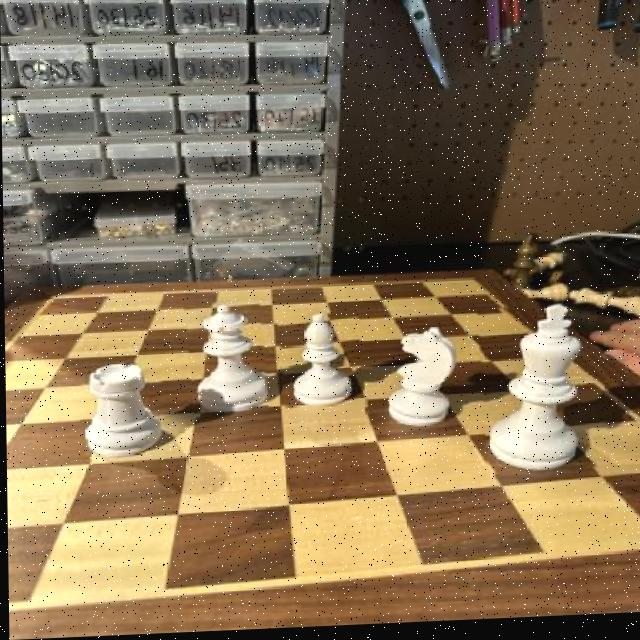black-rook: (279, 315, 365, 417)
white-bishop: (478, 307, 607, 479)
white-king: (381, 327, 473, 436)
white-pawn: (185, 302, 265, 420)
white-queen: (77, 362, 161, 463)
